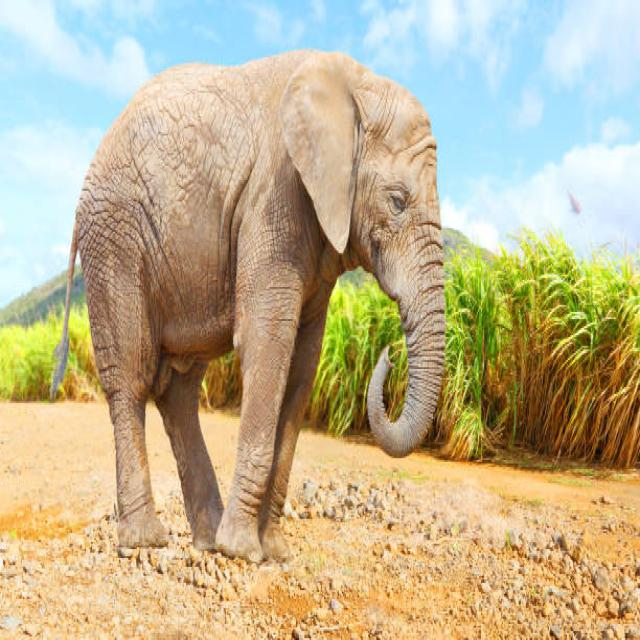Elephant: (55, 47, 475, 581)
